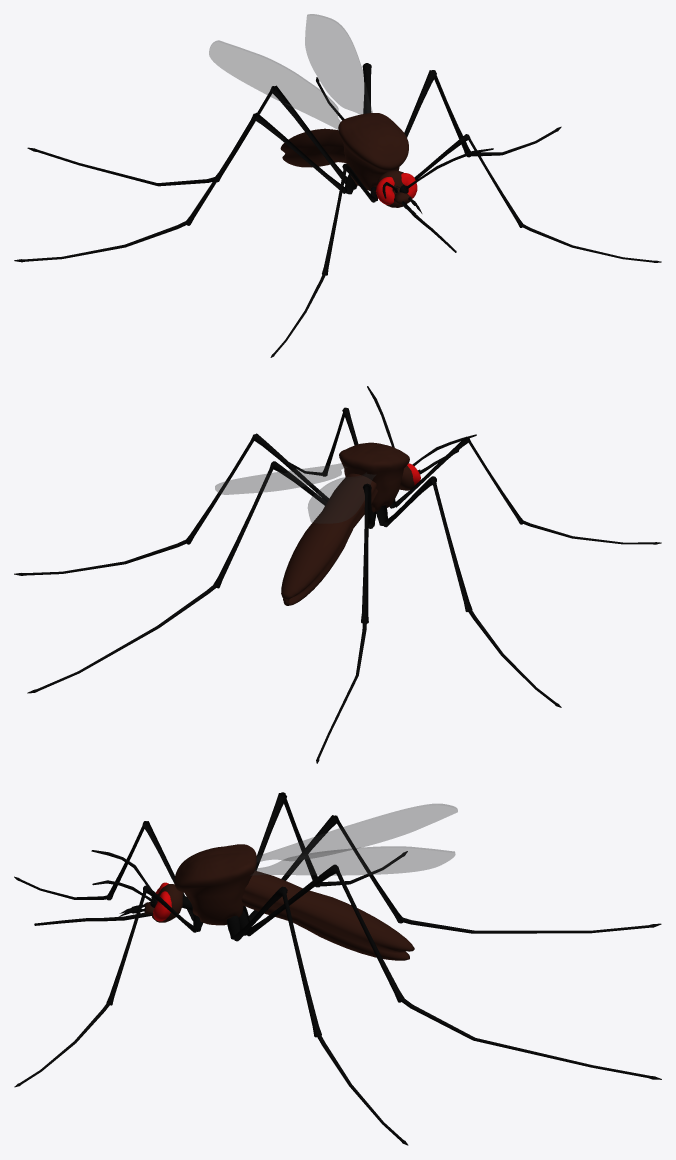
The model's file is mosquito.obj.
3 renders of one model, top to bottom at view 1: azimuth 30°, elevation 25°; view 2: azimuth 150°, elevation 25°; view 3: azimuth 270°, elevation 25°, orthographic. The views are drawn at different scales.
Parts seen in each view (by area): view 1: BezierCircle.002, BezierCircle, Sphere, Sphere.010, LegStart.004_Cylinder.013, LegCenter.009_Cylinder.018, LegStart.005_Cylinder.014, LegCenter.010_Cylinder.019, LegCenter.011_Cylinder.020; view 2: Sphere.010, Sphere, BezierCircle, BezierCircle.002, LegCenter.008_Cylinder.017, LegCenter.002_Cylinder.004, LegCenter.011_Cylinder.020, LegCenter.003_Cylinder.005, LegCenter.001_Cylinder.002, LegCenter_Cylinder; view 3: Sphere.010, Sphere, BezierCircle.002, BezierCircle, LegCenter.002_Cylinder.004, LegCenter.009_Cylinder.018, LegCenter_Cylinder, LegCenter.003_Cylinder.005, LegStart.001_Cylinder.003, LegStart.004_Cylinder.013, LegCenter.008_Cylinder.017, LegCenter.005_Cylinder.011 (+2 smaller).
Part boxes in pixels (x1,y1,x2,y2): BezierCircle.002: (305, 14, 372, 114); BezierCircle: (209, 40, 340, 129); Sphere: (338, 113, 408, 191); Sphere.010: (280, 128, 346, 167); LegStart.004_Cylinder.013: (271, 85, 347, 183); LegCenter.009_Cylinder.018: (27, 147, 215, 186); LegStart.005_Cylinder.014: (252, 112, 347, 193); LegCenter.010_Cylinder.019: (14, 220, 188, 262); LegCenter.011_Cylinder.020: (186, 113, 257, 225); Sphere.010: (281, 473, 377, 605); Sphere: (339, 442, 409, 512); BezierCircle: (308, 472, 375, 523); BezierCircle.002: (215, 463, 347, 494); LegCenter.008_Cylinder.017: (361, 485, 369, 623); LegCenter.002_Cylinder.004: (27, 584, 215, 693); LegCenter.011_Cylinder.020: (431, 478, 472, 611); LegCenter.003_Cylinder.005: (213, 462, 274, 588); LegCenter.001_Cylinder.002: (14, 539, 185, 575); LegCenter_Cylinder: (185, 434, 255, 544); Sphere.010: (241, 871, 414, 960); Sphere: (174, 844, 256, 925); BezierCircle.002: (251, 846, 455, 875); BezierCircle: (257, 804, 457, 862); LegCenter.002_Cylinder.004: (402, 998, 661, 1079); LegCenter.009_Cylinder.018: (400, 917, 661, 933); LegCenter_Cylinder: (281, 888, 321, 1037); LegCenter.003_Cylinder.005: (335, 866, 404, 1002); LegStart.001_Cylinder.003: (246, 864, 336, 936); LegStart.004_Cylinder.013: (248, 815, 338, 920); LegCenter.008_Cylinder.017: (333, 815, 404, 923); LegCenter.005_Cylinder.011: (106, 887, 147, 1005).
Bounding box in the file's own units: 29.95 × 8.27 × 27.89.
